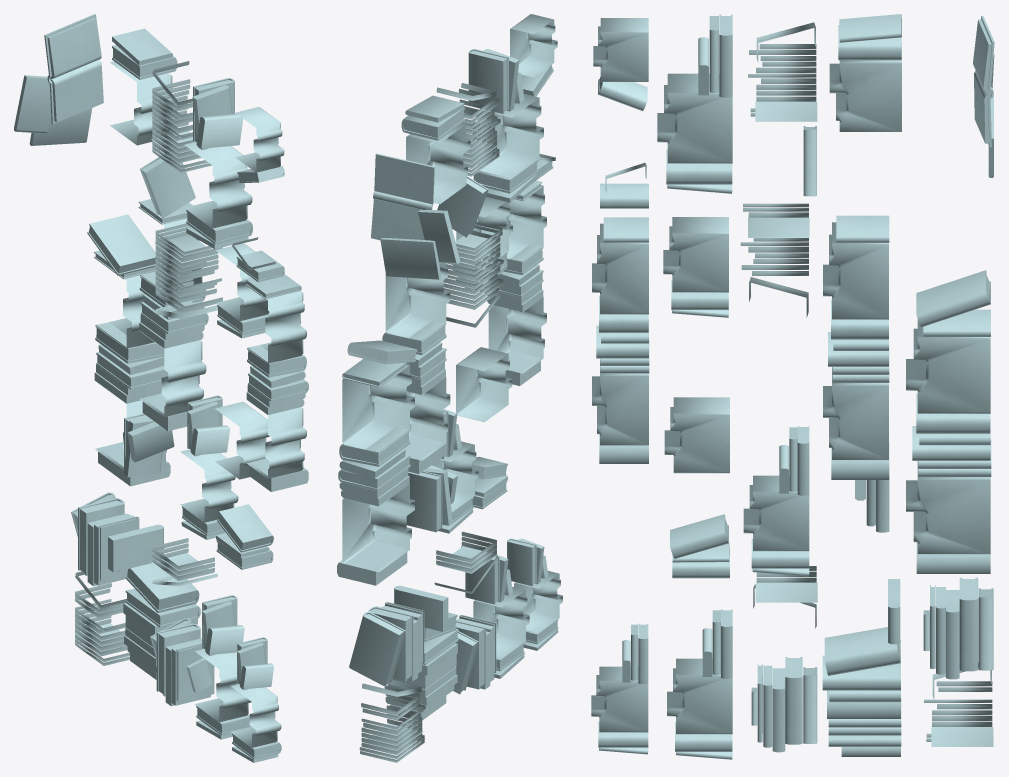
File: bookshelf_9.obj
3 views of the same model, side by side, from view 1: azimuth 30°, elevation 25°; view 2: azimuth 150°, elevation 25°; view 3: azimuth 270°, elevation 25° (orthographic). The views are drawn at different scales.
Bounding box in the file's own units: 0.935 × 4.55 × 2.28.
